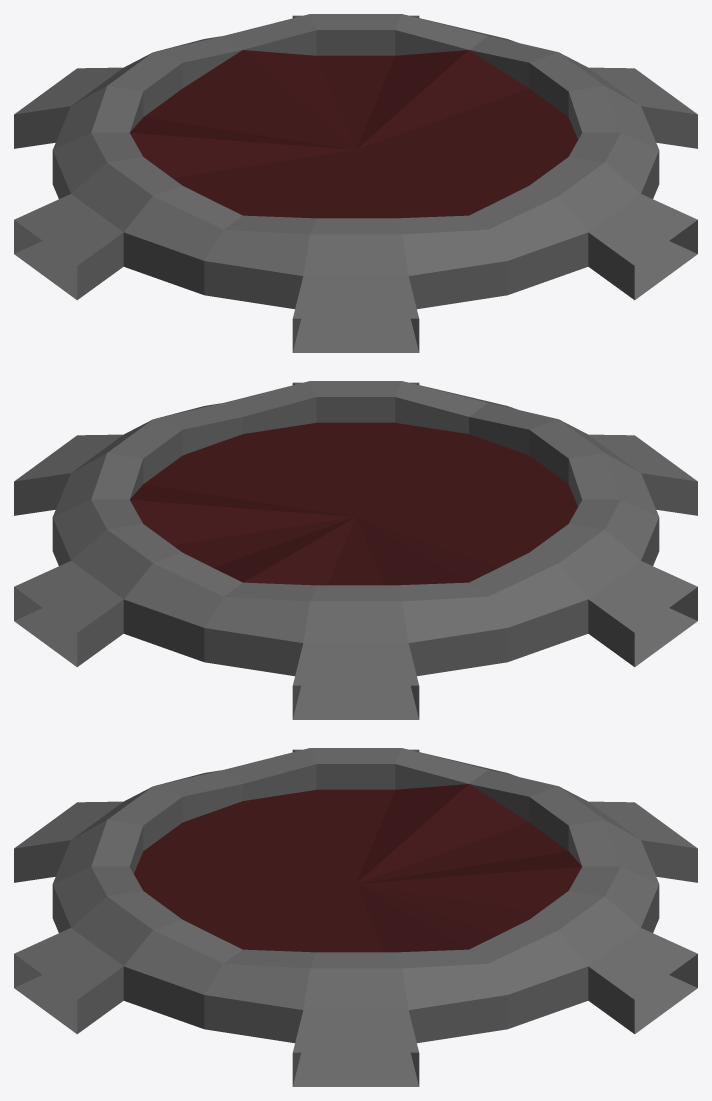
Rendered from PuzzlePlate.fbx.
The picture shows the model from 3 angles, top to bottom: view 1: azimuth 30°, elevation 25°; view 2: azimuth 150°, elevation 25°; view 3: azimuth 270°, elevation 25°; orthographic projection.
Visible parts, largest first — view 1: PuzzlePlate; view 2: PuzzlePlate; view 3: PuzzlePlate.
Boxes of the visible parts, x1=… form: PuzzlePlate: x1=14, y1=14, x2=697, y2=352; PuzzlePlate: x1=14, y1=381, x2=697, y2=719; PuzzlePlate: x1=14, y1=748, x2=697, y2=1086.
Bounding box in the file's own units: 4.73 × 0.5625 × 4.51.
